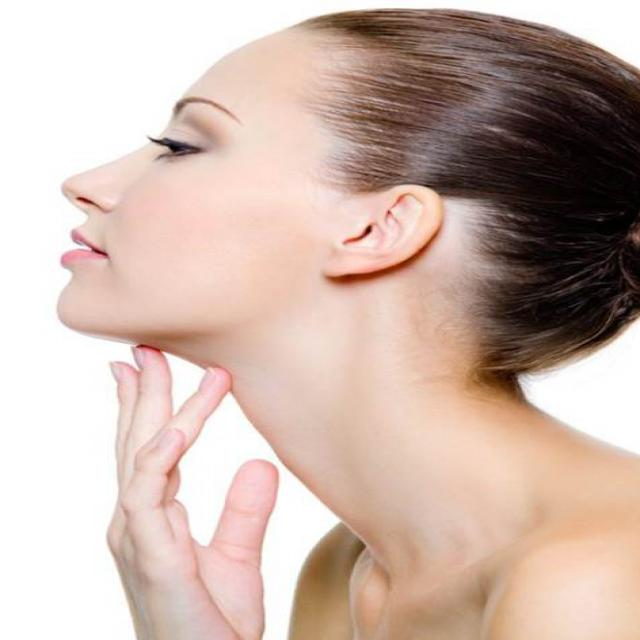earlobe: (321, 184, 444, 280)
